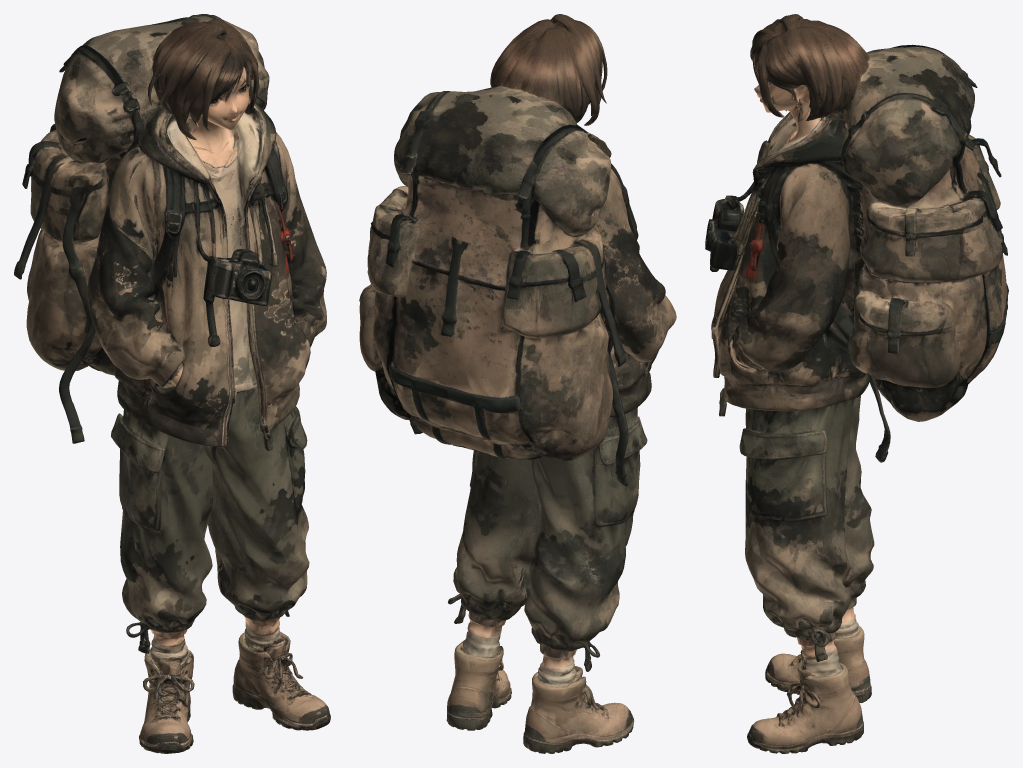
Rendered from rei.glb.
3 views of the same model, side by side, from view 1: azimuth 30°, elevation 25°; view 2: azimuth 150°, elevation 25°; view 3: azimuth 270°, elevation 25° (orthographic). The views are drawn at different scales.
Size of the model in its own units: 0.7311 by 1.9 by 0.7574.
1 material, 1 textured.
